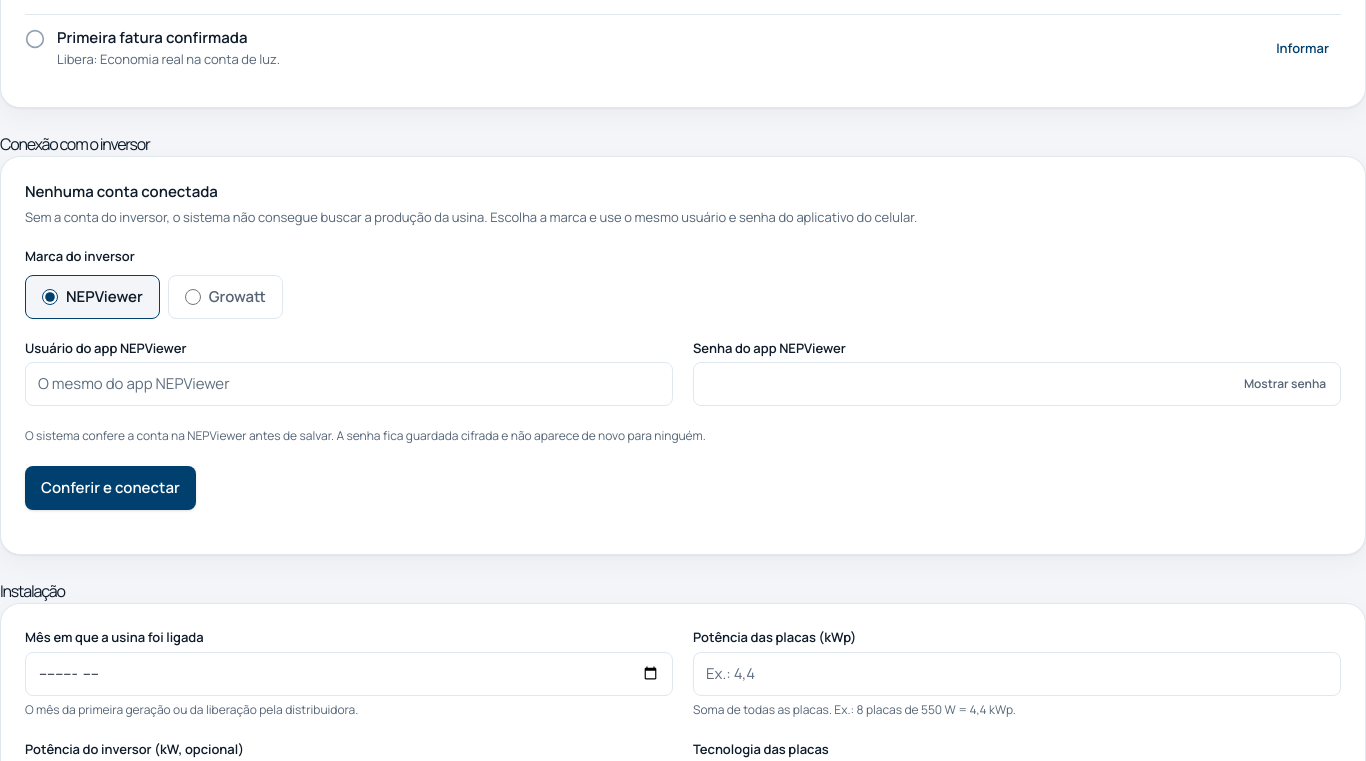
Test: PlantSetupPage — conexão com o inversor (ADR-091) › traduz o erro 429 (provider_verify_rate_limited)
(page scrolled)
Expected: the text "Nenhuma conta conectada" is shown, [25, 181, 218, 202]
Type "a@b.c" into the field labelled "Usuário do app NEPViewer" at (349, 384), box [25, 362, 673, 406]
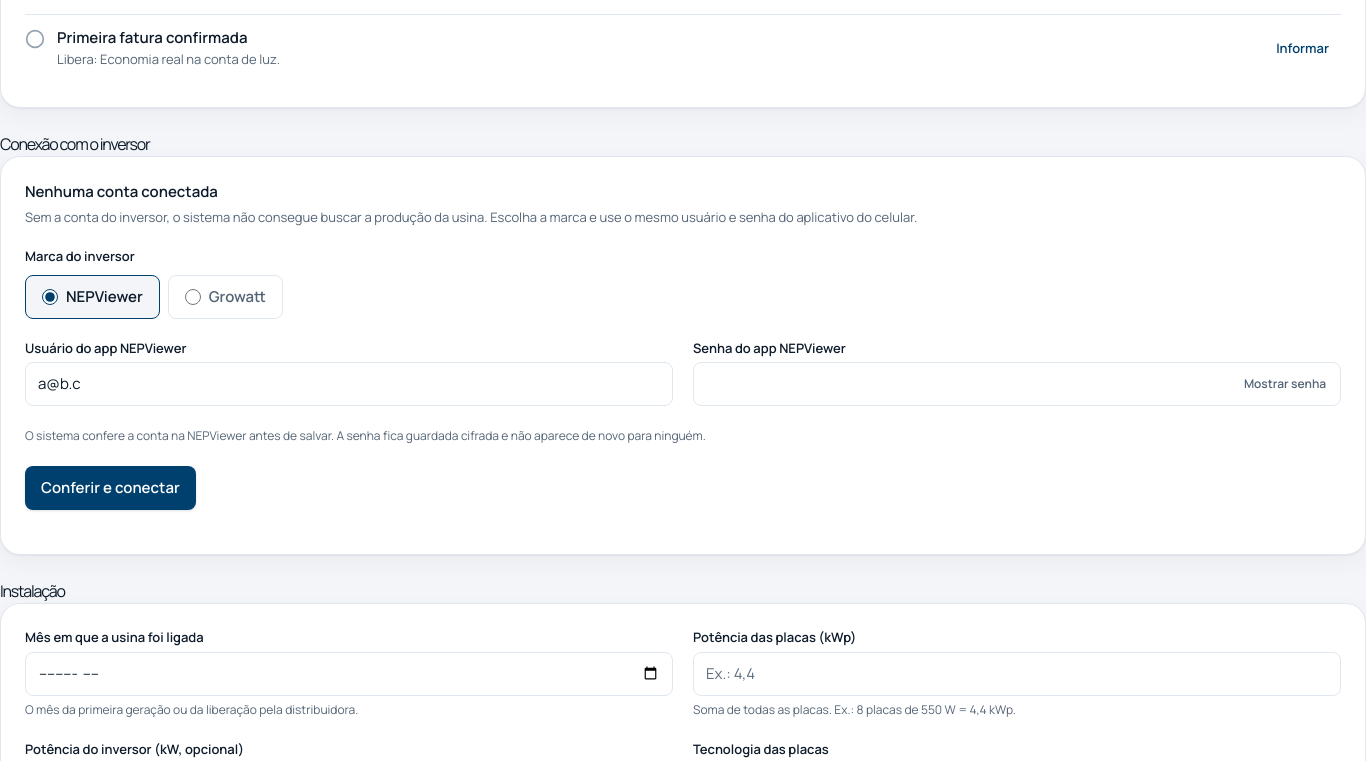
Type "x" into the password field labelled "Senha do app NEPViewer" at (1017, 384), box [693, 362, 1341, 406]
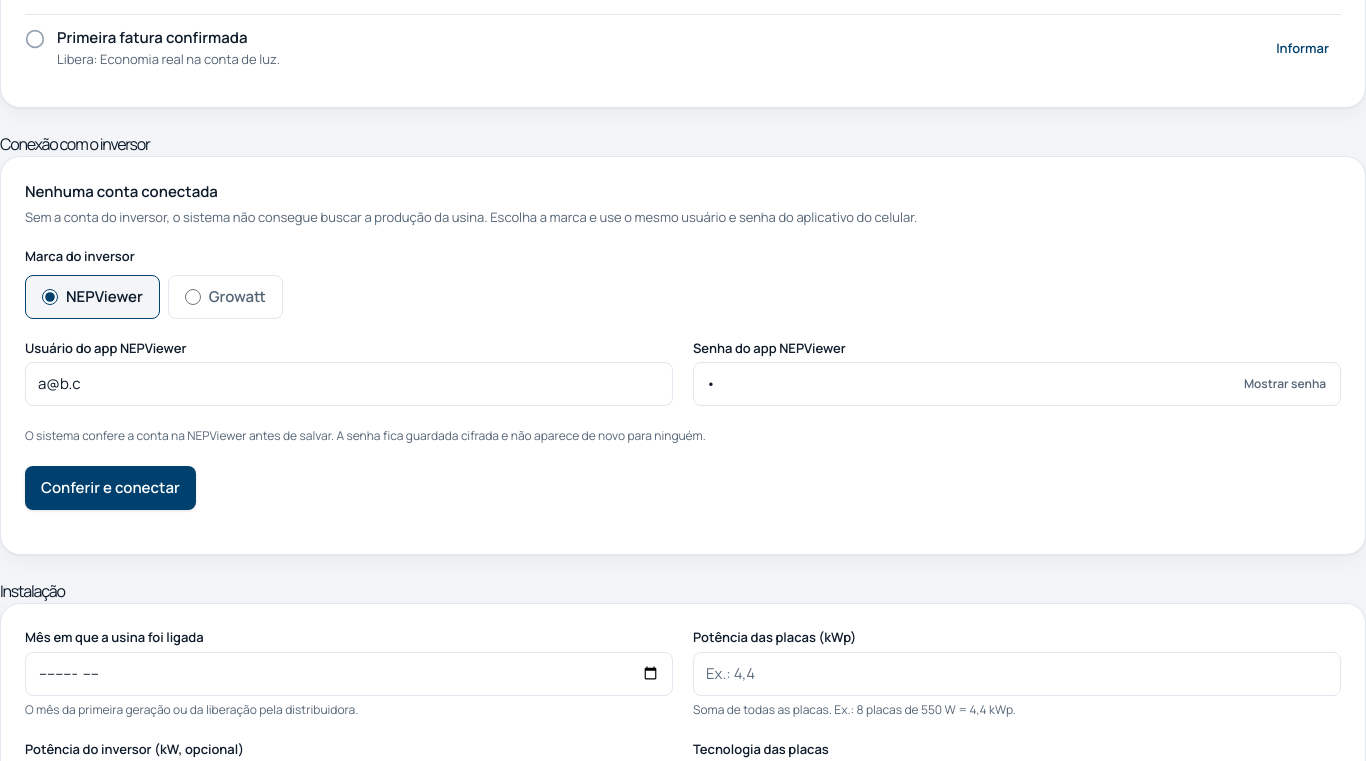
Click the button "Conferir e conectar" at (110, 488), box [25, 466, 196, 510]
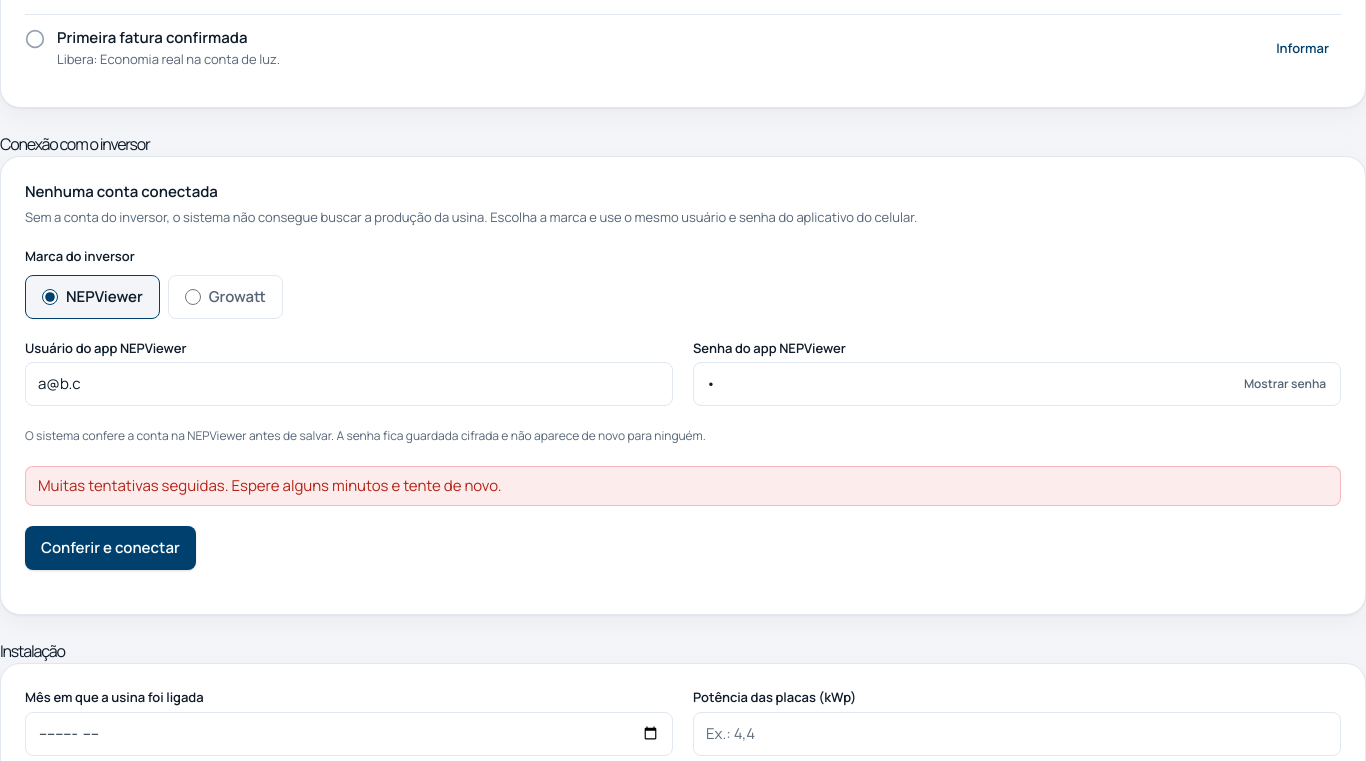
Expected: the message shows "Muitas tentativas seguidas.", [38, 475, 502, 496]
